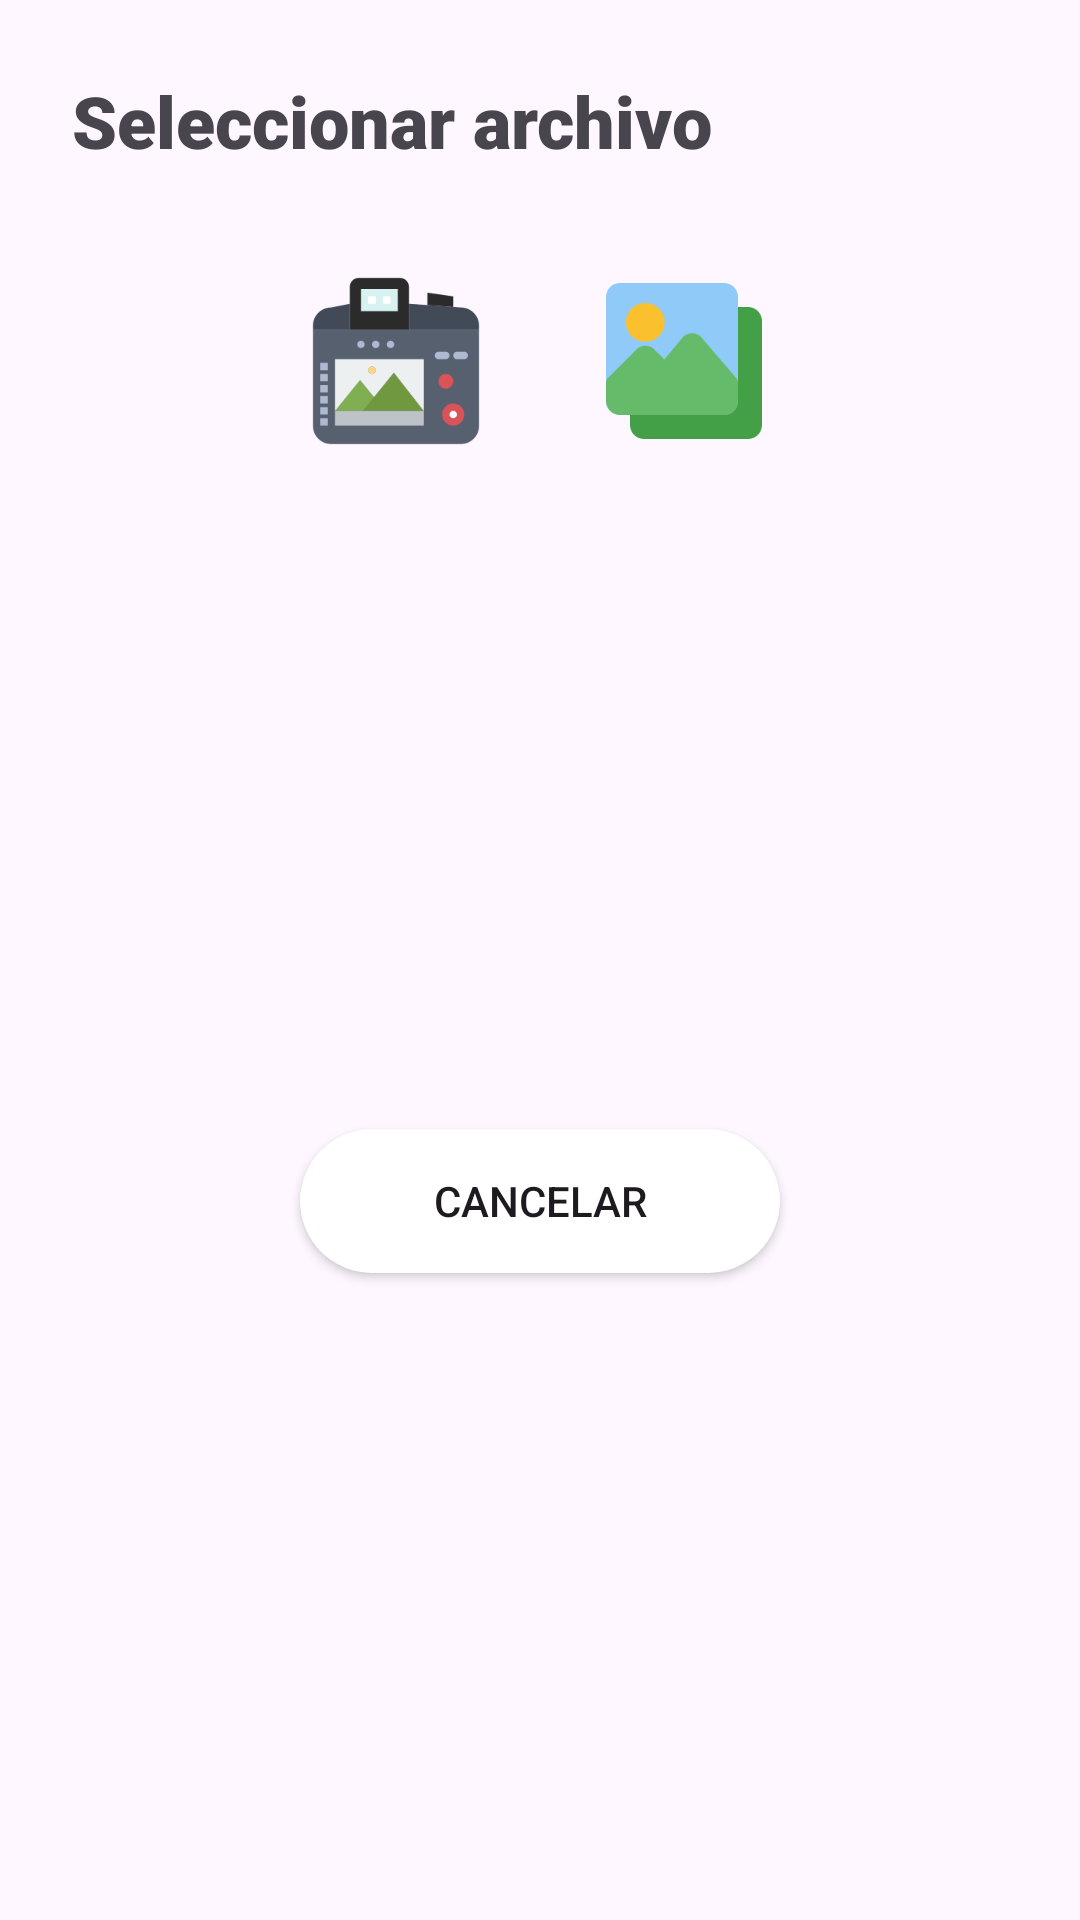

Named icons in this screenshot (1080 x 1920) and their bounding boxes, [left=x1, top=y1, right=x2, bottom=y2]:
camera: [left=312, top=277, right=479, bottom=444]
galery: [left=606, top=283, right=762, bottom=439]
